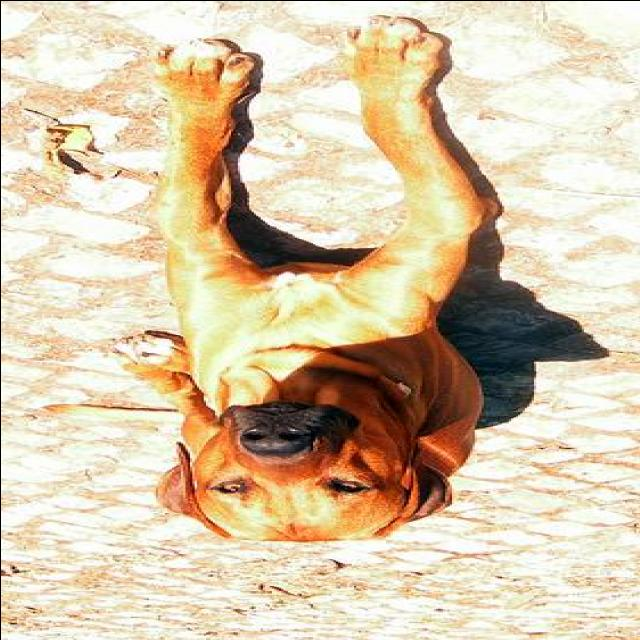rhodesian_ridgeback: (43, 16, 536, 542)
